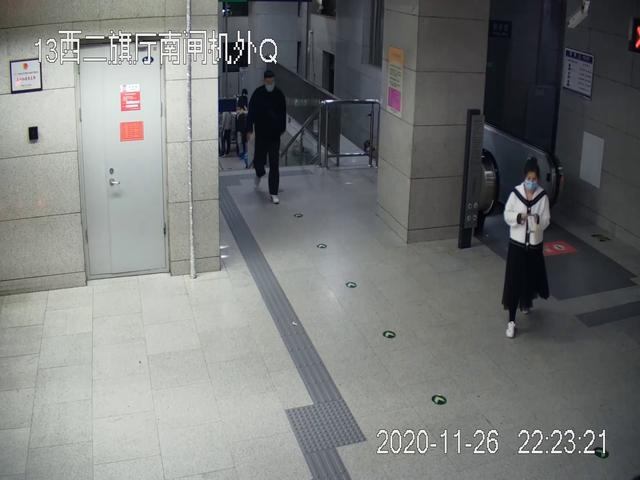person: (502, 159, 551, 340), (245, 70, 286, 204)
